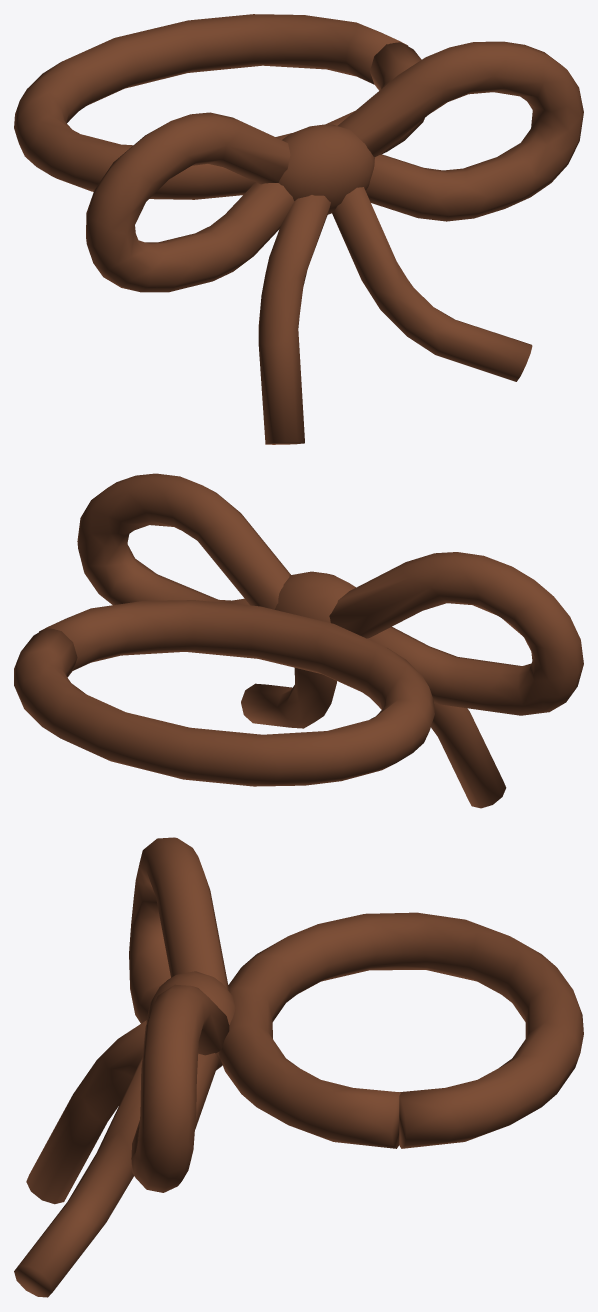
The model's file is loot-bag-rope.fbx.
3 views of the same model, one above another, from view 1: azimuth 30°, elevation 25°; view 2: azimuth 150°, elevation 25°; view 3: azimuth 270°, elevation 25° (orthographic). The views are drawn at different scales.
Visible parts, largest first — view 1: Rope; view 2: Rope; view 3: Rope.
Part boxes in pixels (<box>): Rope: <box>14,14,583,444</box>; Rope: <box>14,473,583,808</box>; Rope: <box>14,837,583,1297</box>.
Bounding box in the file's own units: 106 × 62.4 × 97.57.
